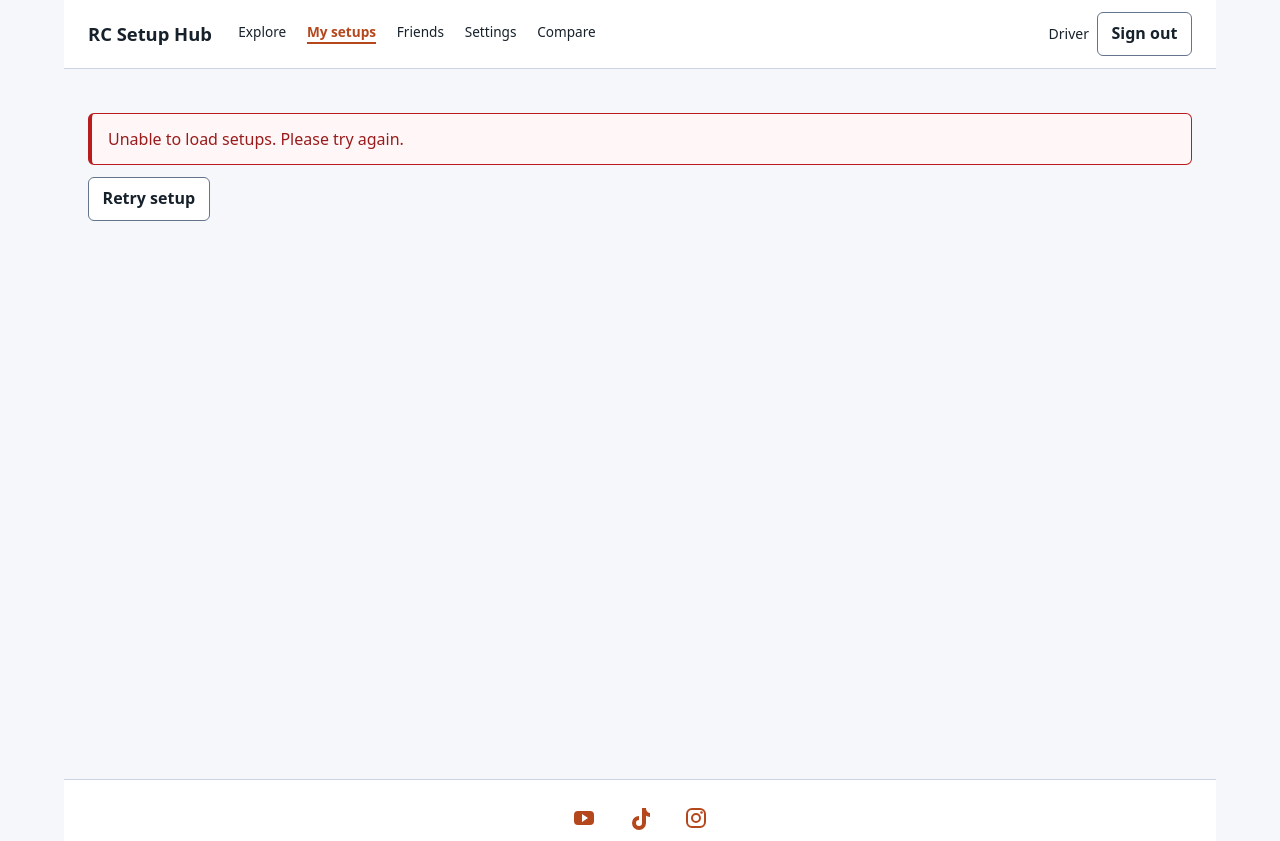
Scenario: recovers from detail server failure through explicit retry
Check: the message "Unable to load setups. Please try again." is shown, box [88,113,1192,165]
Click the button "Retry setup": point(149, 199) [88,177,210,221]
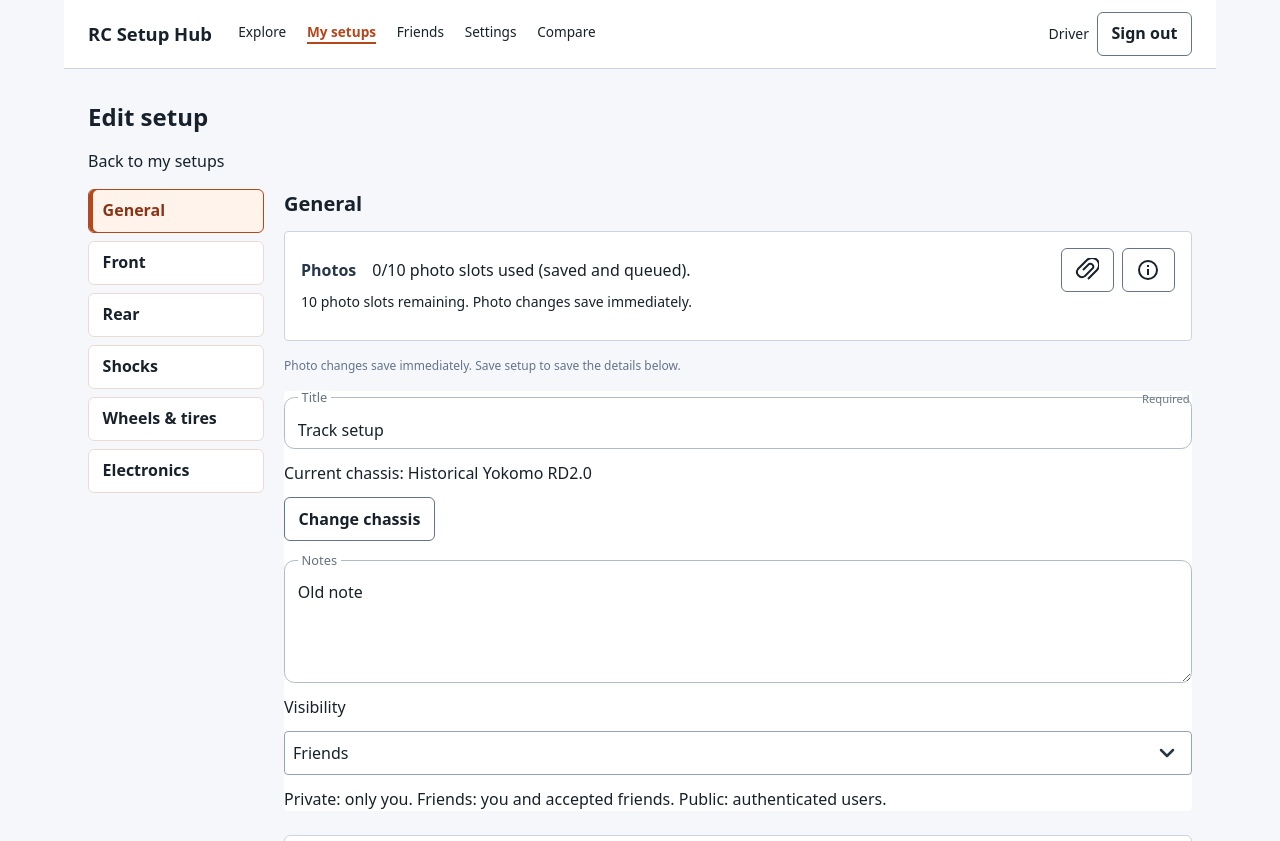
Check: the field labelled "Title" is shown, box [284,397,1192,449]
